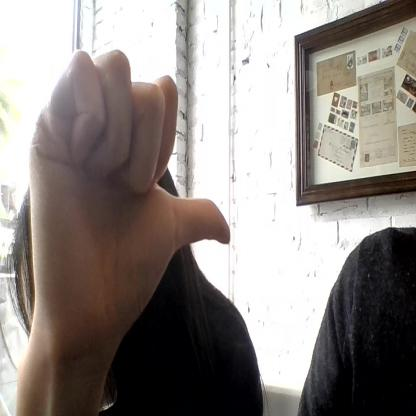left: (27, 46, 230, 320)
